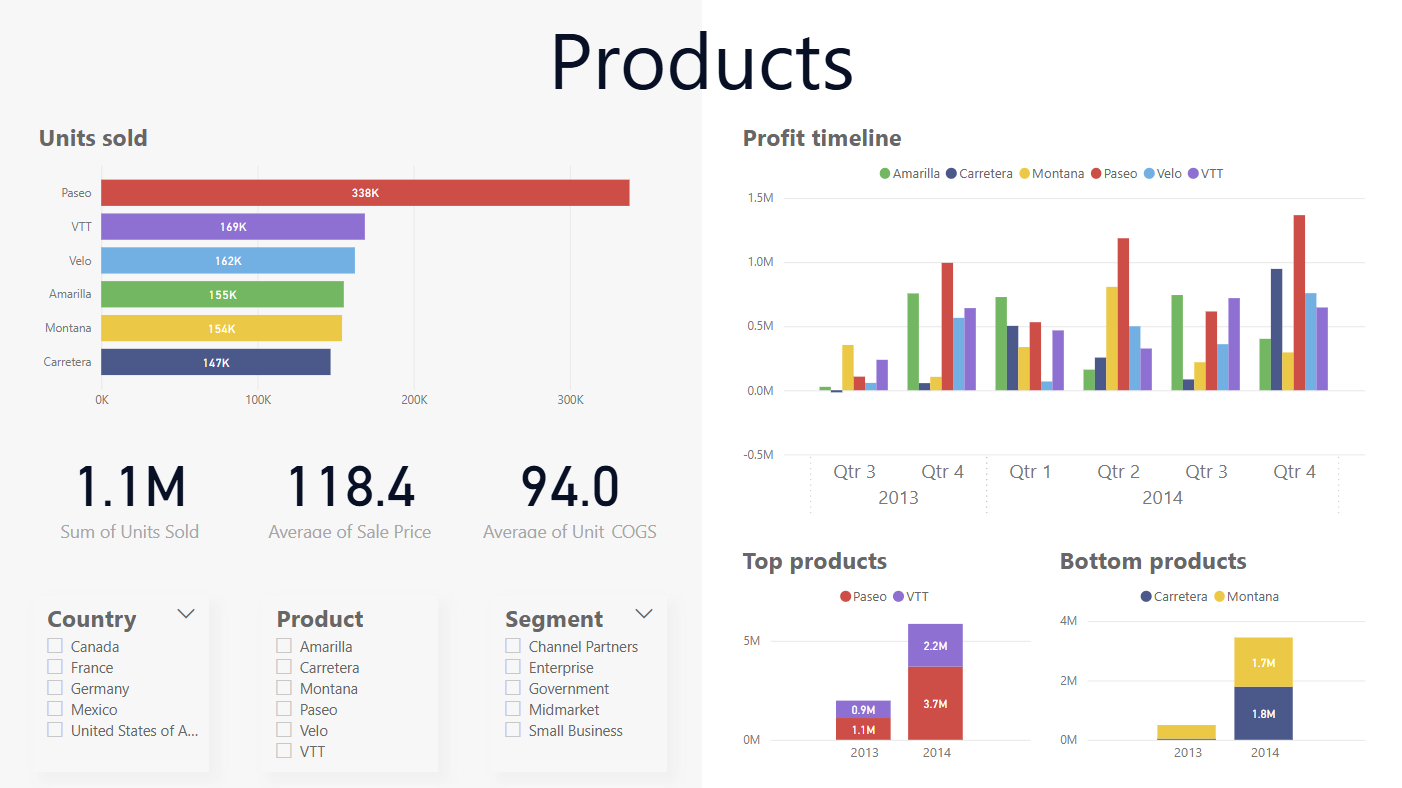

Layout of this report page (visuals, bound fields, positions):
{"tool":"powerbi","page":{"name":"Products","canvas":[1280,720],"ordinal":2},"visuals":[{"type":"shape","box":[0,0,640,720],"z":0},{"type":"textbox","box":[224,0,832,112],"z":1000},{"type":"barChart","title":"Units sold","fields":{"Category":["financials.Product"],"Y":["Sum(financials.Units Sold)"],"Series":["financials.Product"]},"box":[32,112,576,272],"z":2000},{"type":"slicer","fields":{"Values":["financials.Segment"]},"box":[448,544,160,160],"z":3000},{"type":"card","fields":{"Values":["Sum(financials.Units Sold)"]},"box":[32,400,176,96],"z":4000},{"type":"slicer","fields":{"Values":["financials.Country"]},"box":[32,544,160,160],"z":5000},{"type":"card","fields":{"Values":["Avg(financials.Sale Price)"]},"box":[224,400,192,96],"z":6000},{"type":"card","title":"Unitary COGS","fields":{"Values":["Avg(financials.Unit_COGS)"]},"box":[432,400,176,96],"z":7000},{"type":"columnChart","title":"Top products","fields":{"Y":["Sum(financials.Profit)"],"Series":["financials.Product"],"Category":["financials.Date.Variation.Date Hierarchy.Year","financials.Date.Variation.Date Hierarchy.Quarter","financials.Month Number"]},"box":[672,496,272,208],"z":8000},{"type":"columnChart","title":"Bottom products","fields":{"Category":["financials.Date.Variation.Date Hierarchy.Year","financials.Date.Variation.Date Hierarchy.Quarter","financials.Month Number"],"Y":["Sum(financials.Profit)"],"Series":["financials.Product"]},"box":[960,496,288,208],"z":9000},{"type":"clusteredColumnChart","title":"Profit timeline","fields":{"Category":["financials.Date.Variation.Date Hierarchy.Year","financials.Date.Variation.Date Hierarchy.Quarter","financials.Month Number"],"Y":["Sum(financials.Profit)"],"Series":["financials.Product"]},"box":[672,112,576,368],"z":10000},{"type":"slicer","fields":{"Values":["financials.Product"]},"box":[240,544,160,160],"z":11000}]}

Visuals, with their boxes in screenshot pixels (x1, y1, x2, y2), scaled from the page's 1280x720 canvas onto the 1402x788 screenshot:
shape: crop(0, 0, 701, 787)
textbox: crop(245, 0, 1157, 123)
"Units sold" barChart: crop(35, 123, 666, 420)
slicer - financials.Segment: crop(491, 595, 666, 770)
card - Sum(financials.Units Sold): crop(35, 438, 228, 543)
slicer - financials.Country: crop(35, 595, 210, 770)
card - Avg(financials.Sale Price): crop(245, 438, 456, 543)
"Unitary COGS" card: crop(473, 438, 666, 543)
"Top products" columnChart: crop(736, 543, 1034, 770)
"Bottom products" columnChart: crop(1052, 543, 1367, 770)
"Profit timeline" clusteredColumnChart: crop(736, 123, 1367, 525)
slicer - financials.Product: crop(263, 595, 438, 770)
